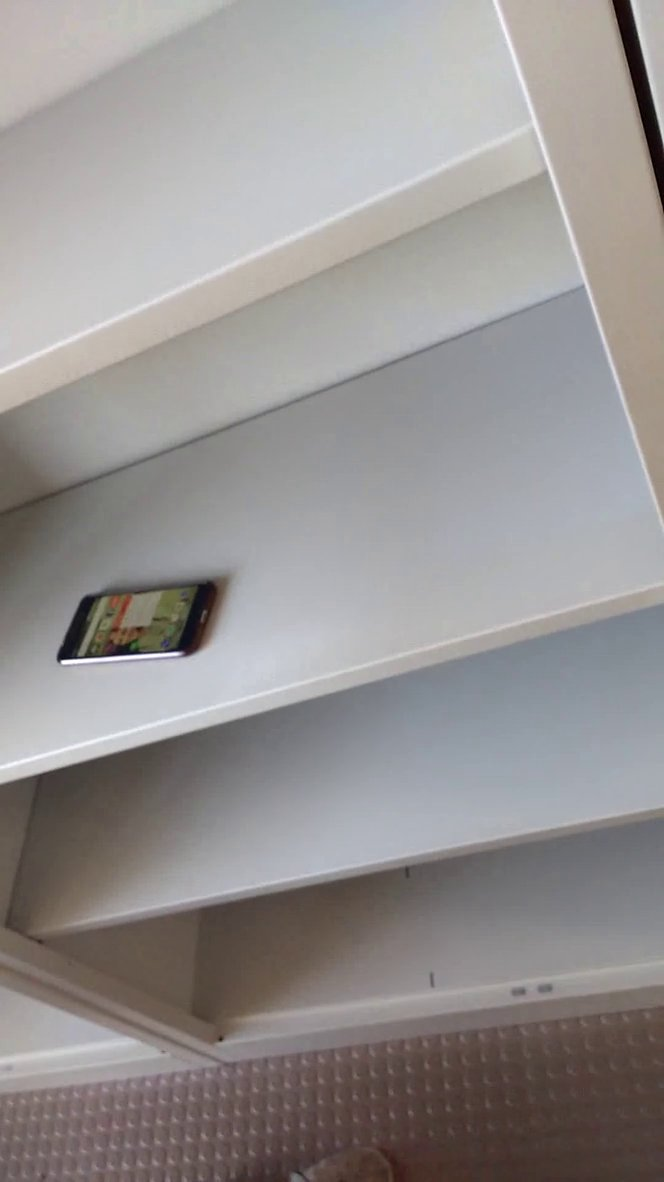phone: (51, 566, 231, 669)
